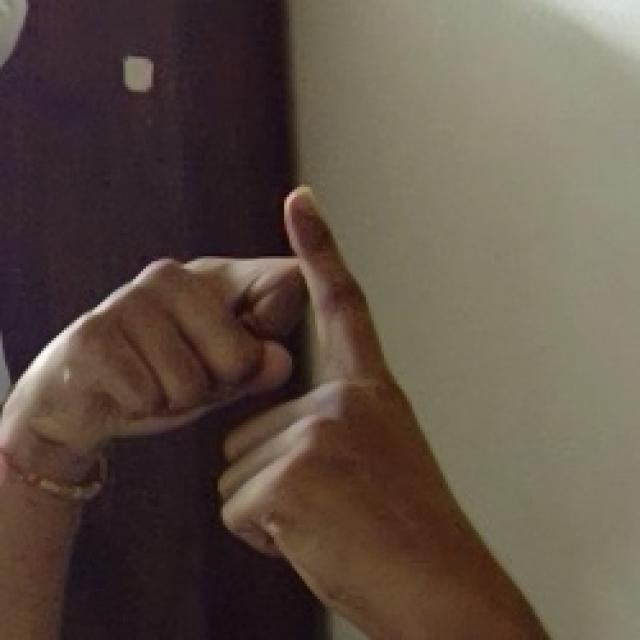Alphabet-K: (37, 177, 510, 640)
